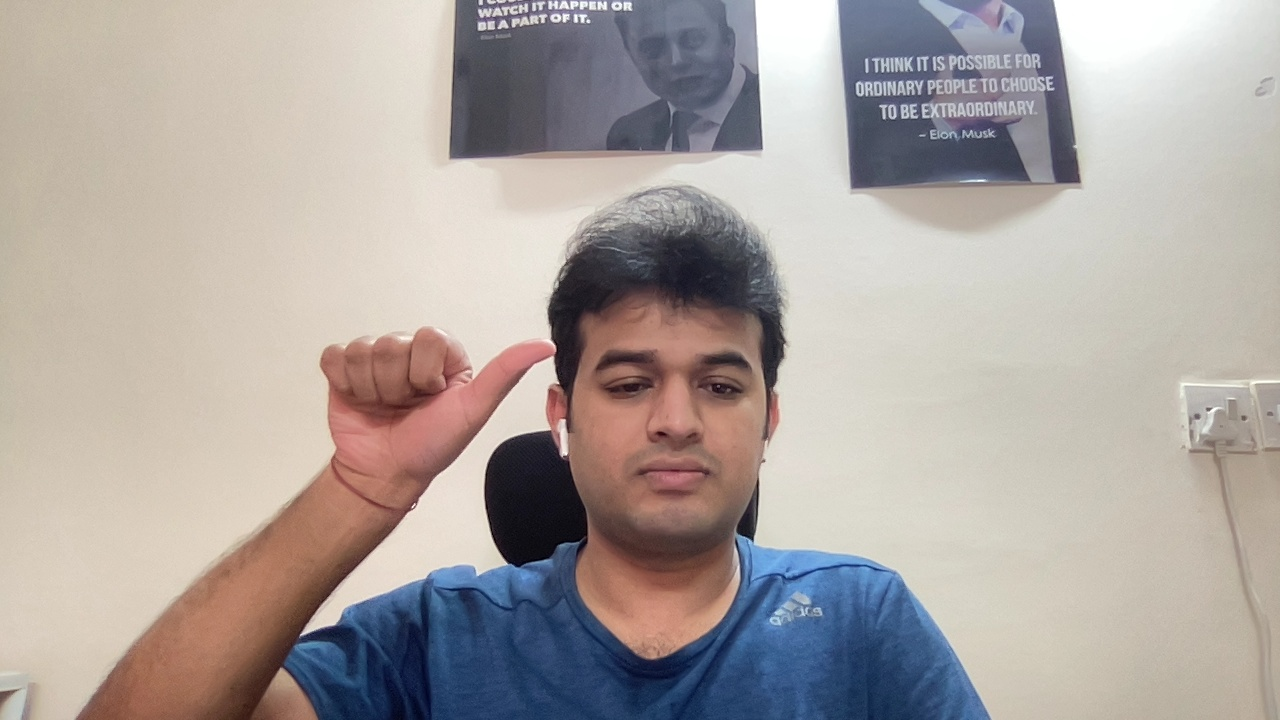left: (302, 316, 566, 484)
